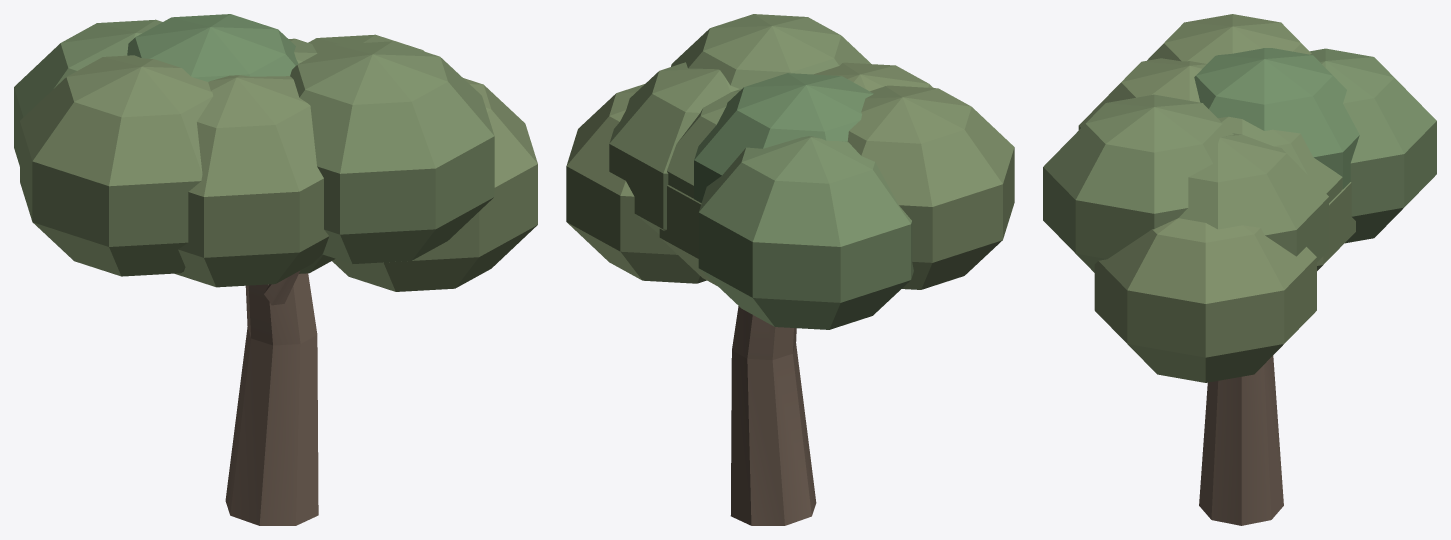
File: Tree_Oak.fbx
The picture shows the model from 3 angles, left to right: view 1: azimuth 30°, elevation 25°; view 2: azimuth 150°, elevation 25°; view 3: azimuth 270°, elevation 25°; orthographic projection. The views are drawn at different scales.
Parts seen in each view (by area): view 1: Res_Tree_Oak; view 2: Res_Tree_Oak; view 3: Res_Tree_Oak.
Boxes of the visible parts, x1,y1,x2,y2 form: Res_Tree_Oak: [14, 14, 537, 525]; Res_Tree_Oak: [566, 14, 1014, 525]; Res_Tree_Oak: [1043, 14, 1436, 525].
Bounding box in the file's own units: 4.57 × 4.45 × 3.71.
